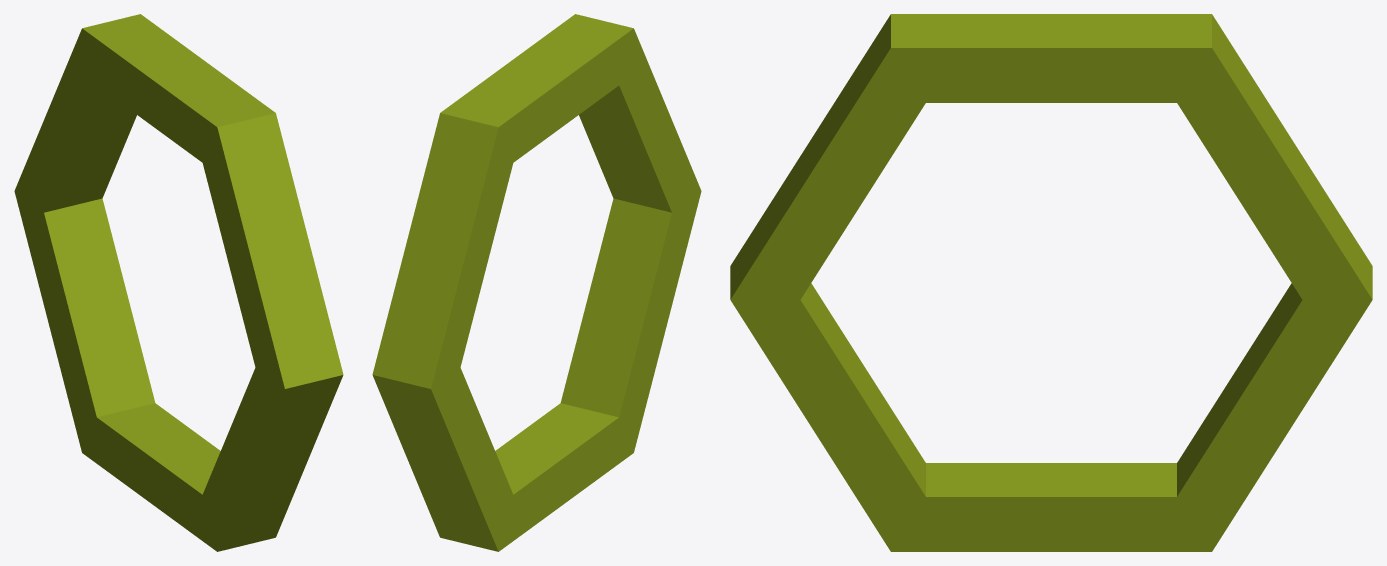
The model's file is ring5.obj.
3 views of the same model, side by side, from view 1: azimuth 30°, elevation 25°; view 2: azimuth 150°, elevation 25°; view 3: azimuth 270°, elevation 25° (orthographic). The views are drawn at different scales.
Visible parts, largest first — view 1: Cylinder; view 2: Cylinder; view 3: Cylinder.
Part boxes in pixels (box(x1,y1,x2,y2)): Cylinder: box(14, 14, 343, 551); Cylinder: box(372, 14, 701, 551); Cylinder: box(730, 14, 1372, 551).
Bounding box in the file's own units: 2 × 13.86 × 16.
